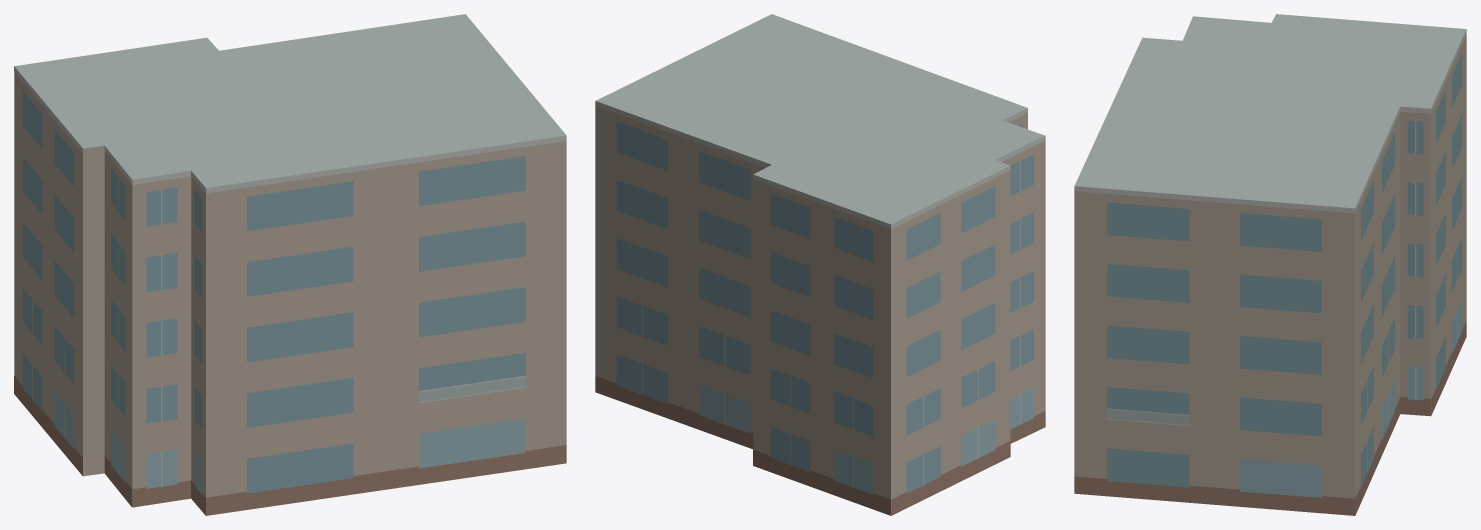
File: survey-upis-32704122.glb
3 views of the same model, side by side, from view 1: azimuth 30°, elevation 25°; view 2: azimuth 150°, elevation 25°; view 3: azimuth 270°, elevation 25° (orthographic). The views are drawn at different scales.
Parts seen in each view (by area): view 1: survey-upis-32704122.tmp; view 2: survey-upis-32704122.tmp; view 3: survey-upis-32704122.tmp.
Boxes of the visible parts, x1,y1,x2,y2 form: survey-upis-32704122.tmp: (14, 14, 566, 515); survey-upis-32704122.tmp: (595, 14, 1045, 515); survey-upis-32704122.tmp: (1074, 14, 1466, 515).
Bounding box in the file's own units: 20.01 × 14.75 × 17.07.
